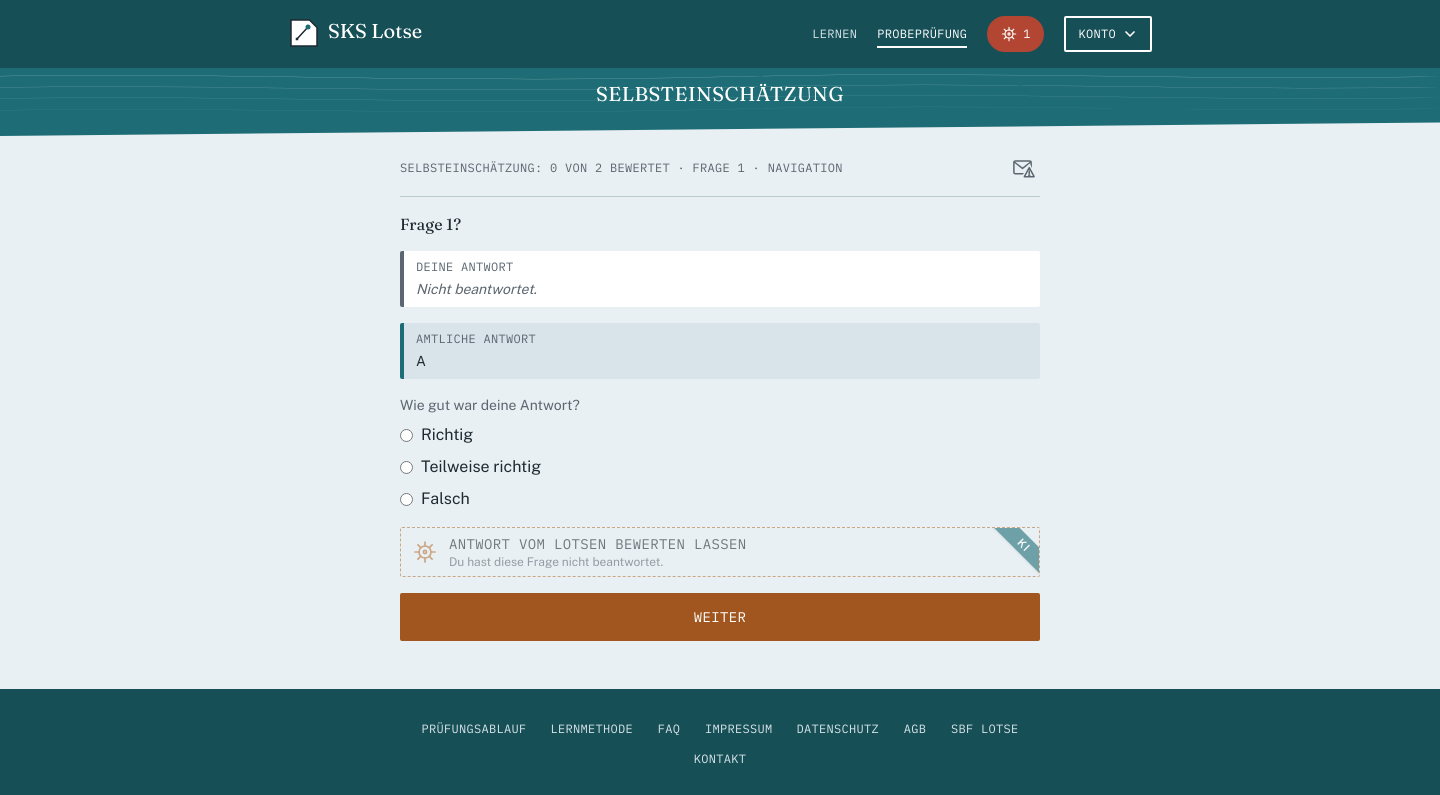
Test case: ExamRunPage › reports a failed grading save
What coordinates should you click on to do the following:
click the radio button labelled "Teilweise richtig"
I would click on:
 (406, 467)
Its box is [400, 460, 413, 474].
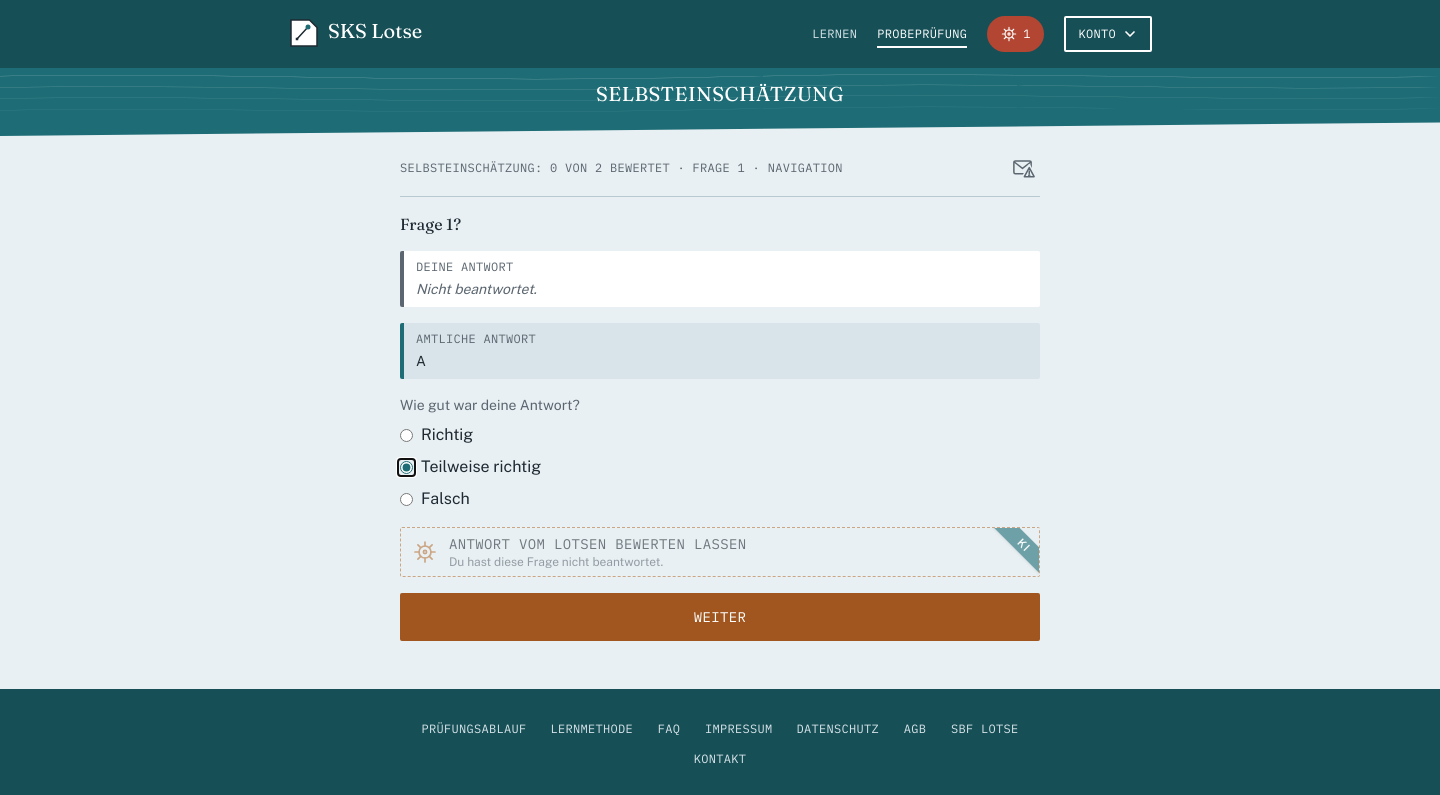
What coordinates should you click on to do the following:
click the button "Weiter"
I would click on:
 (720, 617)
Its box is [400, 593, 1040, 641].
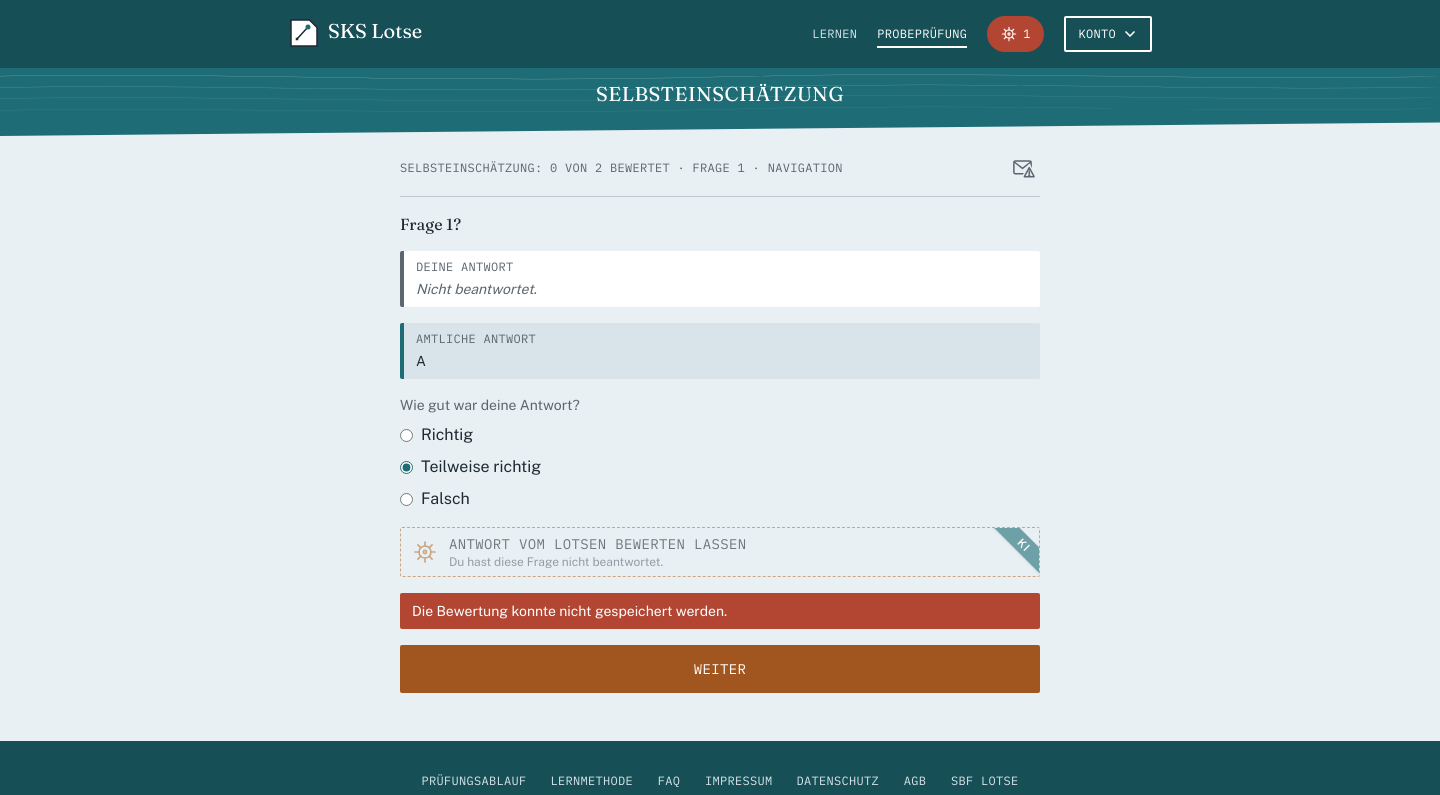
Result: the message reads "Die Bewertung konnte nicht gespeichert werden." at [412, 603, 727, 619]
